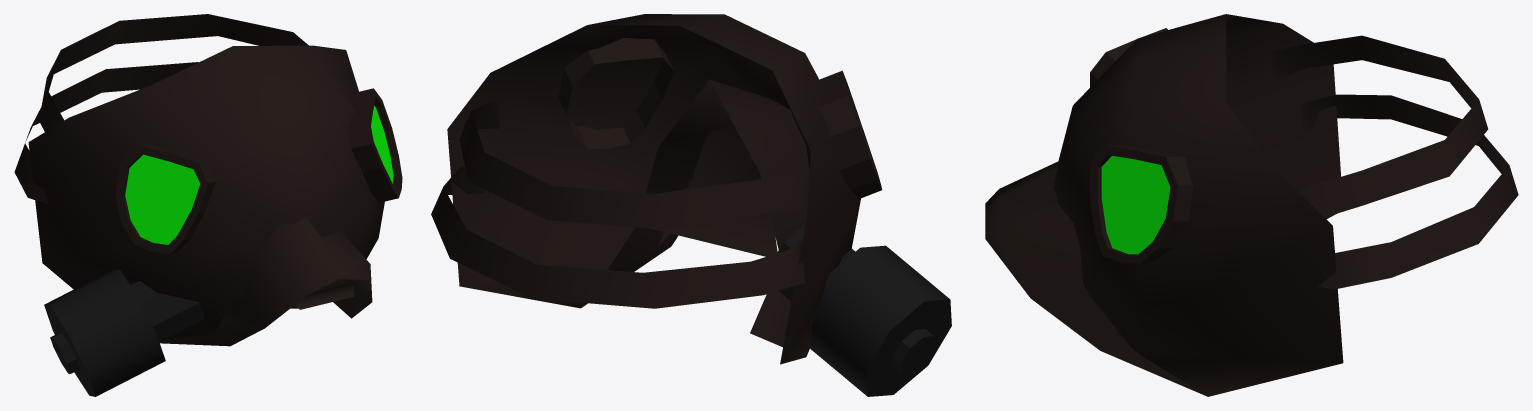
The model's file is Char_CR_Head_Mask.FBX.
3 renders of one model, left to right at view 1: azimuth 30°, elevation 25°; view 2: azimuth 150°, elevation 25°; view 3: azimuth 270°, elevation 25°, orthographic. The views are drawn at different scales.
Parts seen in each view (by area): view 1: Sphere003; view 2: Sphere003; view 3: Sphere003.
Part boxes in pixels (x1=…): Sphere003: x1=14, y1=14, x2=402, y2=396; Sphere003: x1=431, y1=14, x2=951, y2=396; Sphere003: x1=985, y1=14, x2=1518, y2=396.
Size of the model in its own units: 22.45 by 17.89 by 26.23.
